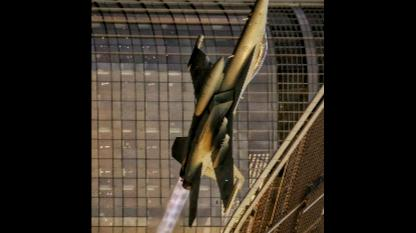F15: (172, 0, 270, 228)
